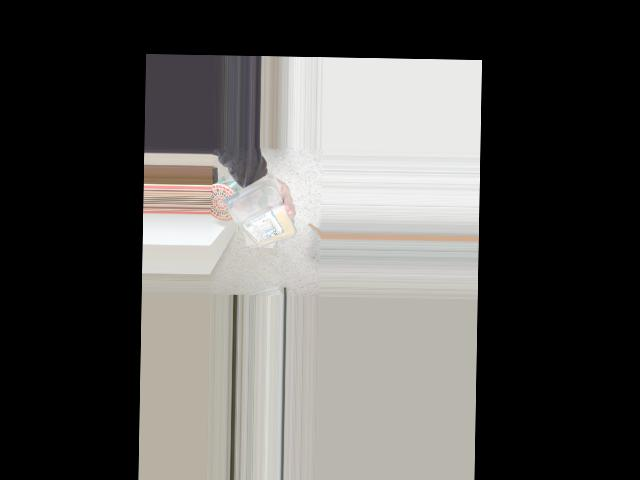cheese: (221, 177, 287, 253)
